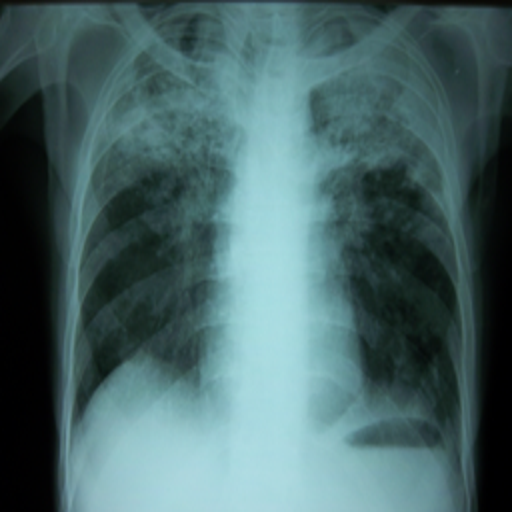TB: (108, 76, 224, 177), (324, 77, 431, 181)
